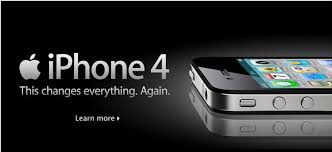iphone: (185, 54, 332, 121)
